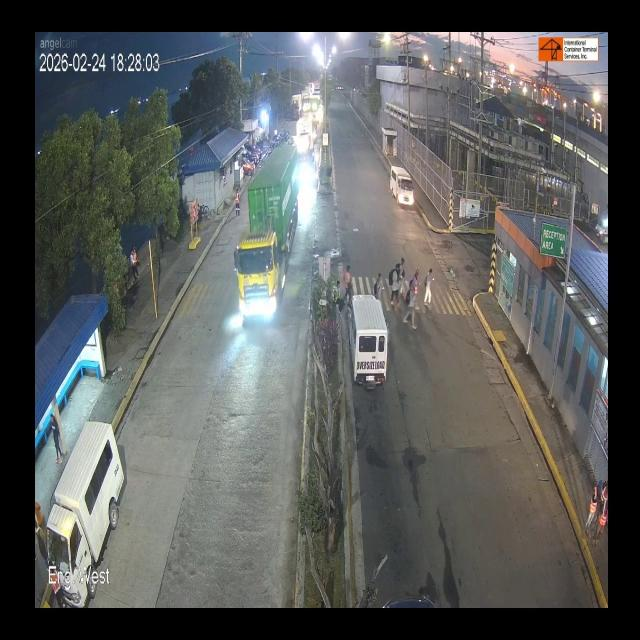car: (42, 440, 128, 572), (346, 294, 394, 393), (386, 161, 414, 211)
truck: (230, 141, 310, 332)
